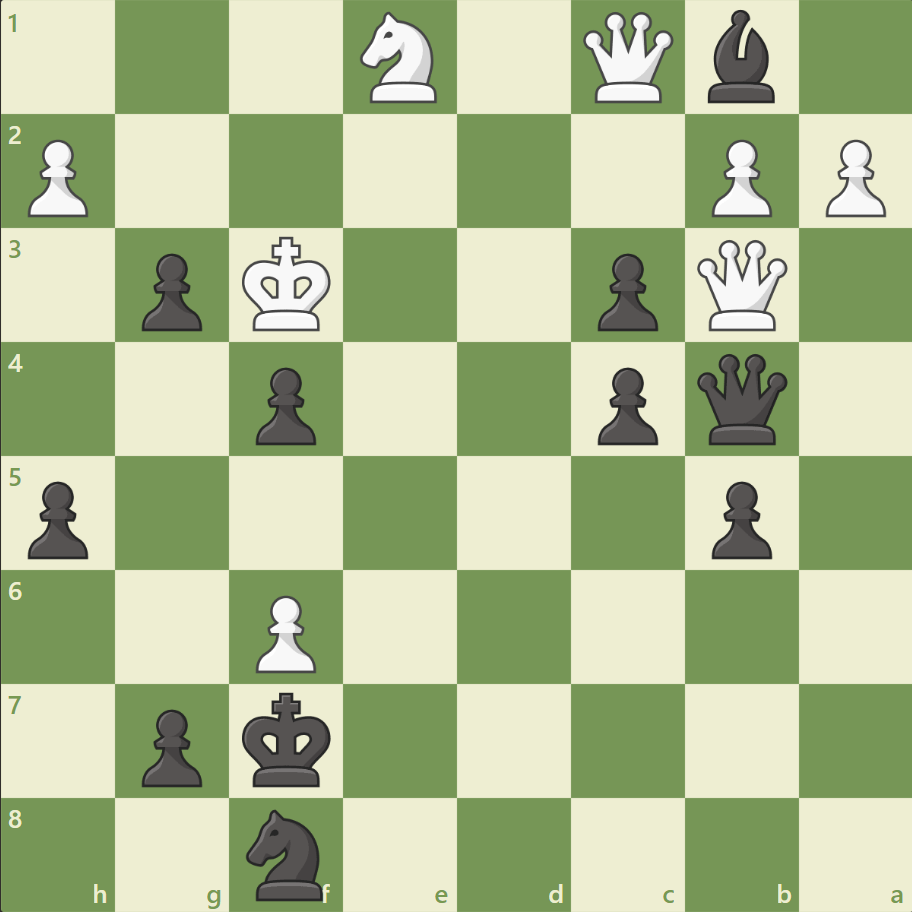K: (238, 231, 338, 339)
N: (351, 7, 449, 110)
P: (247, 586, 322, 677), (701, 132, 776, 223), (20, 132, 95, 223), (815, 132, 889, 223)
Q: (691, 236, 790, 335), (578, 9, 677, 108)
b: (698, 6, 782, 109)
k: (238, 685, 338, 793)
n: (238, 802, 335, 904)
p: (133, 700, 208, 791), (701, 473, 776, 564), (20, 473, 95, 564), (247, 359, 322, 450), (133, 246, 208, 337), (588, 359, 662, 450), (588, 246, 662, 337)
q: (691, 349, 790, 449)
